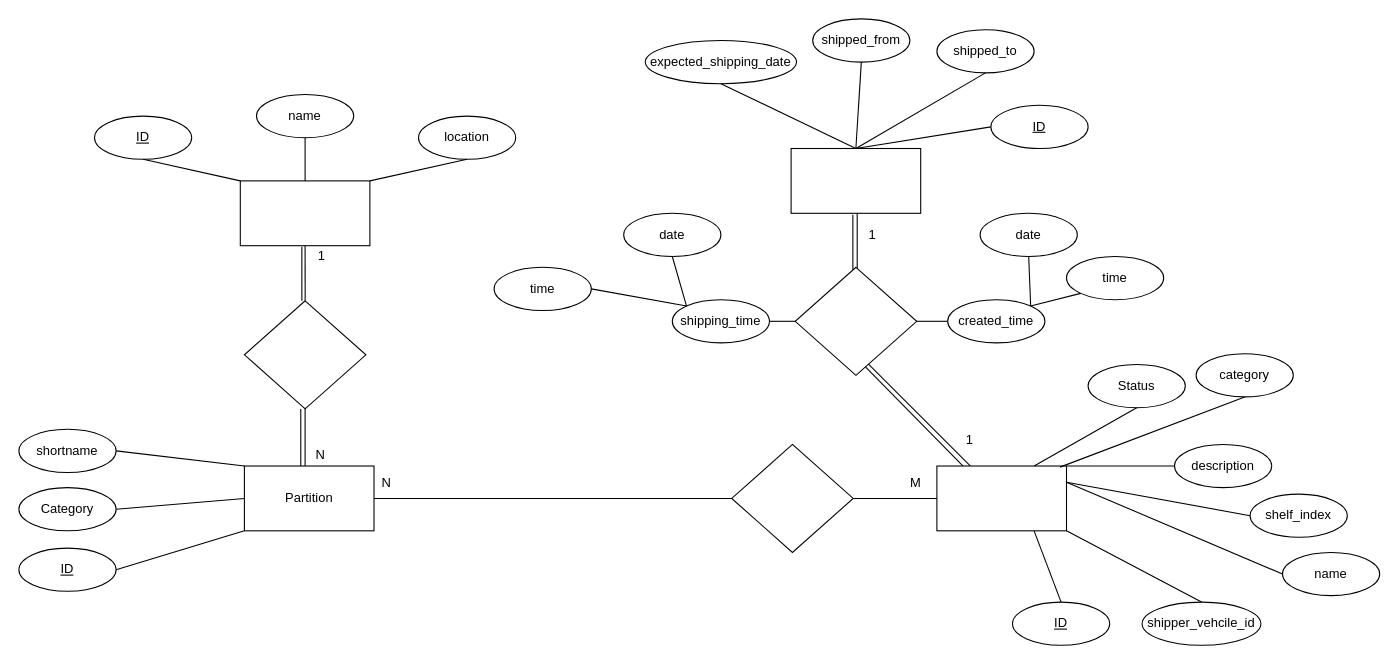
The diagram is 1399 pixels wide and 664 high, and some of its shapes have lost their labels. The centre of each missing label's shape, as x and y in pixels:
"Contains" belongs at (x=855, y=320).
"Has" belongs at (x=304, y=354).
"Shipment" belongs at (x=1001, y=498).
"Shipping Data" belongs at (x=855, y=180).
"Stores" belongs at (x=792, y=497).
"Warehouse" belongs at (x=304, y=213).
